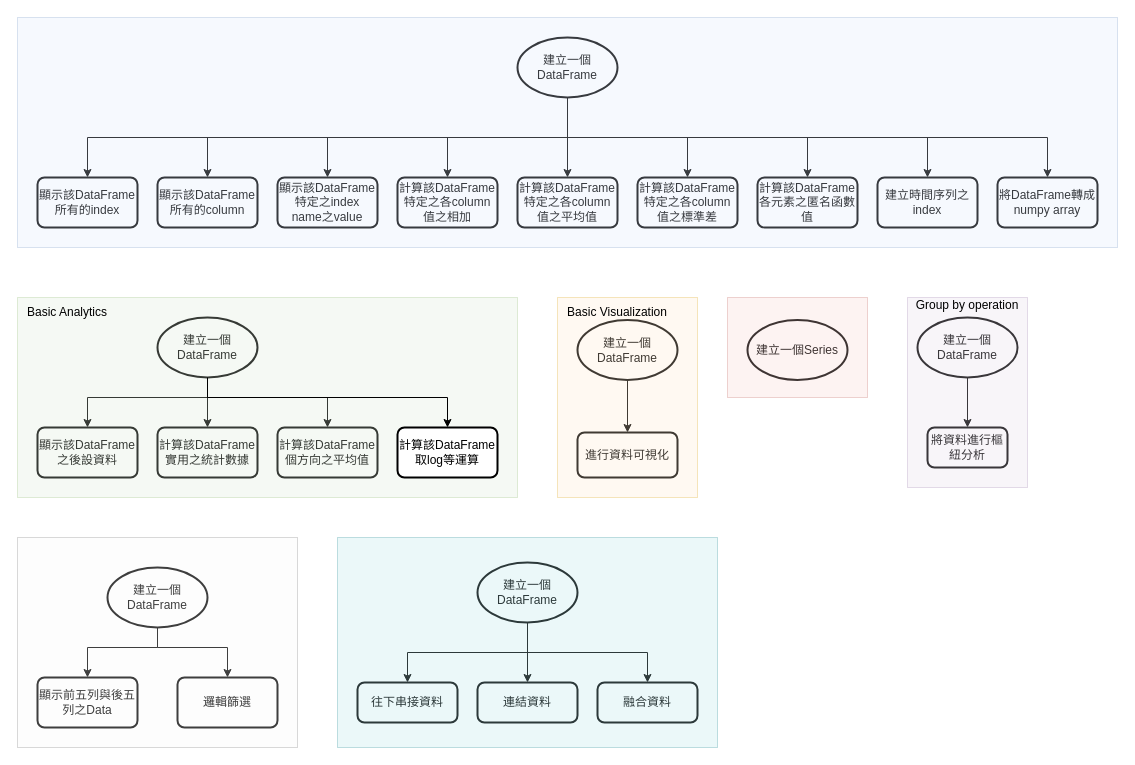
The diagram is 1135 pixels wide and 765 high, and some of its shapes have lost their labels. The centre of each missing label's shape, as x and y in pixels:
Complex Selection: (157,642)
Concatenation, Join and Merge: (527,642)
DataFrame: (567,132)
Series: (797,347)
